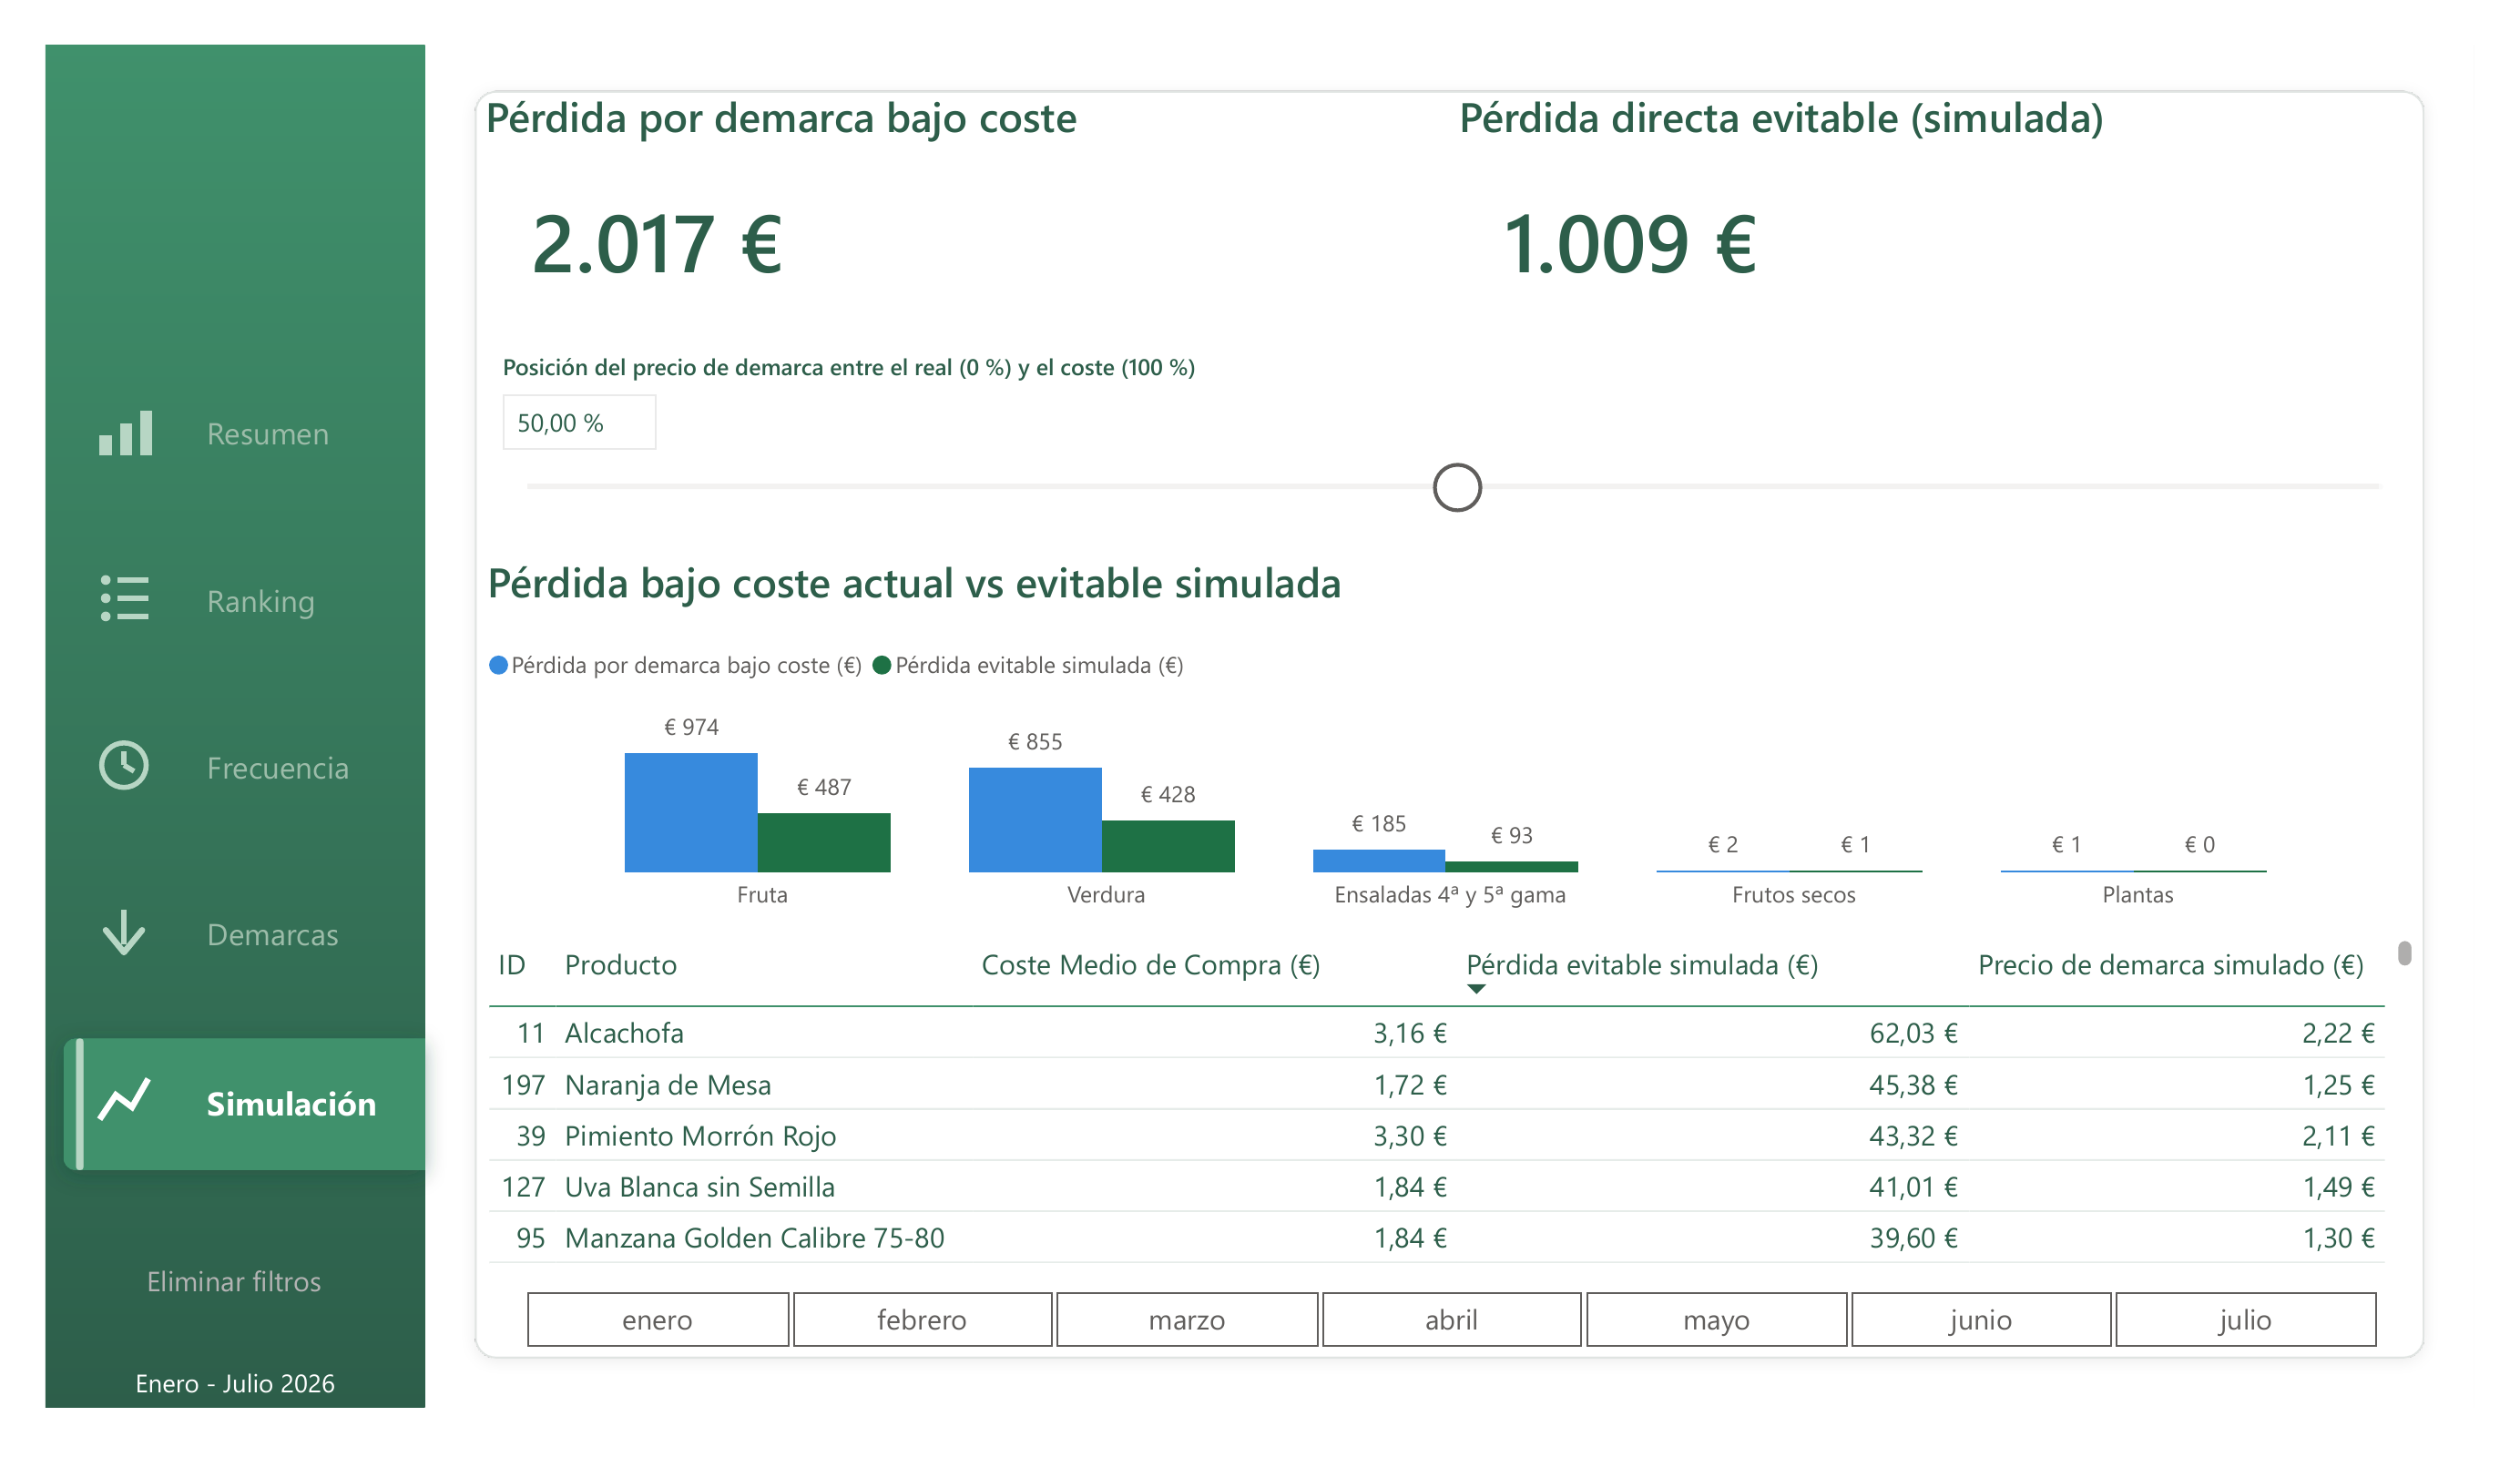

The dashboard page shown, as its layout file describes it:
{"tool":"powerbi","page":{"name":"Simulación","canvas":[1280,720],"ordinal":4},"visuals":[{"type":"cardVisual","title":"Pérdida por demarca bajo coste","fields":{"Data":["_Medidas_Rentabilidad.Impacto por venta bajo coste"]},"box":[227.1,22.9,512.9,118.6],"z":0},{"type":"cardVisual","title":"Pérdida directa evitable (simulada)","fields":{"Data":["_Medidas_simulación.Recuperación potencial"]},"box":[740,22.9,512.9,118.6],"z":1000},{"type":"slicer","fields":{"Values":["Parámetro Recuperación.Parámetro Recuperación"]},"box":[227.5,156.2,1025,111.2],"z":2000},{"type":"clusteredColumnChart","title":"Pérdida bajo coste actual vs evitable simulada","fields":{"Category":["Productos.Categoría"],"Y":["_Medidas_Rentabilidad.Impacto por venta bajo coste","_Medidas_simulación.Recuperación potencial"]},"box":[227.5,267.5,1025,198.8],"z":3000},{"type":"tableEx","fields":{"Values":["Productos.producto_id","Productos.nombre","_Medidas_Ventas_Rentabilidad.Coste Medio de Compra (€)","_Medidas_simulación.% Recuperación Aplicado","_Medidas_simulación.Precio Demarca Simulado"]},"box":[227.5,466.2,1025,183.8],"z":4000},{"type":"actionButton","box":[0,168.6,200,72.9],"z":5000},{"type":"actionButton","box":[0,267.1,200,52.9],"z":6000},{"type":"actionButton","box":[0,440,200,51.4],"z":7000},{"type":"actionButton","box":[0,355.7,200,52.9],"z":8000},{"type":"textbox","box":[0,688.9,200,31.4],"z":9000},{"type":"slicer","fields":{"Values":["Calendario.Nombre Mes"]},"box":[227.5,650,1025,41.2],"z":10000},{"type":"actionButton","box":[23.8,627.5,151.2,45],"z":11000}]}

Visuals, with their boxes on the page's 1280x720 design canvas (x1, y1, x2, y2). These are canvas units, not pixel positions in the 2520x1457 screenshot, which may show the page scaled, cropped or inside an application window:
"Pérdida por demarca bajo coste" cardVisual: box(227, 23, 740, 142)
"Pérdida directa evitable (simulada)" cardVisual: box(740, 23, 1253, 142)
slicer - Parámetro Recuperación.Parámetro Recuperación: box(228, 156, 1252, 267)
"Pérdida bajo coste actual vs evitable simulada" clusteredColumnChart: box(228, 268, 1252, 466)
tableEx - Productos.producto_id x Productos.nombre: box(228, 466, 1252, 650)
actionButton: box(0, 169, 200, 242)
actionButton: box(0, 267, 200, 320)
actionButton: box(0, 440, 200, 491)
actionButton: box(0, 356, 200, 409)
textbox: box(0, 689, 200, 720)
slicer - Calendario.Nombre Mes: box(228, 650, 1252, 691)
actionButton: box(24, 628, 175, 672)
